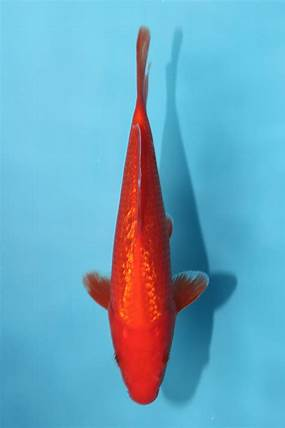red: (82, 26, 208, 404)
